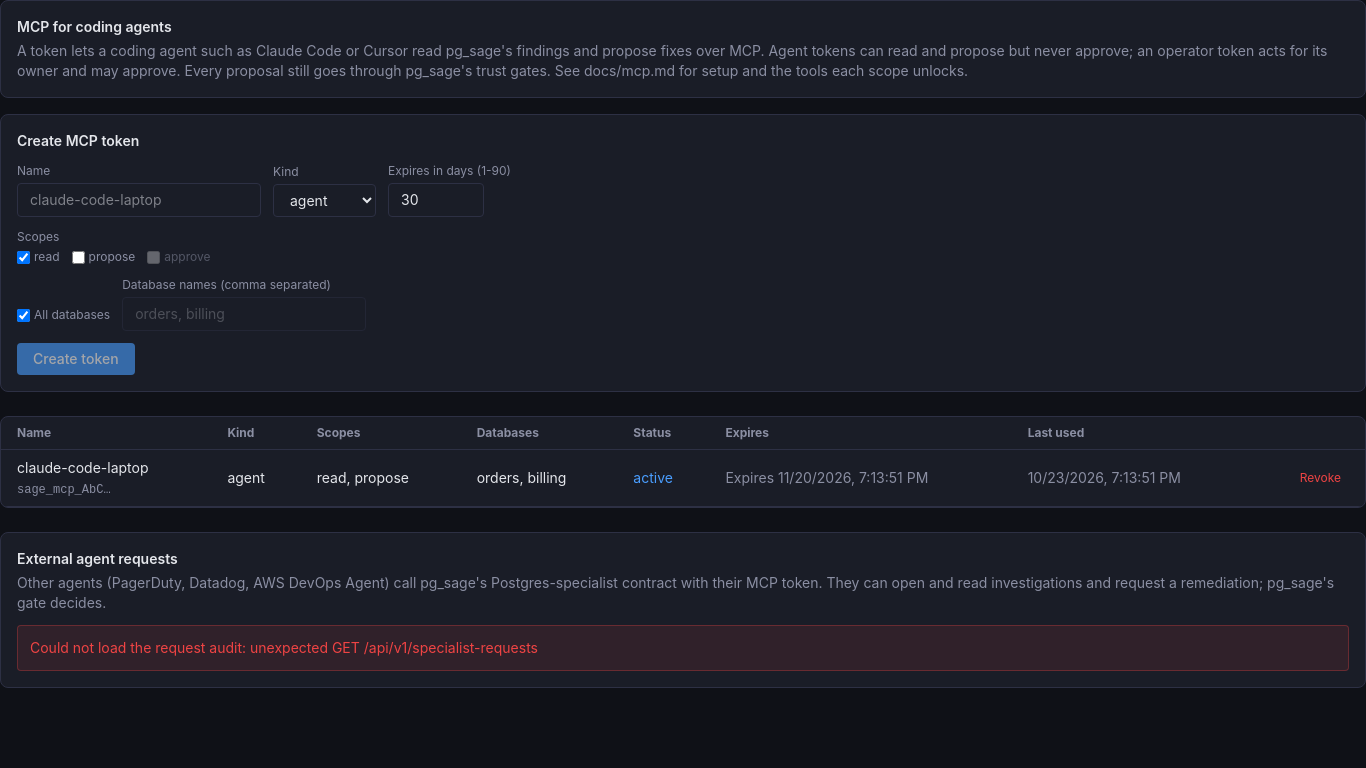
Test case: MCPTokensPage revoke › shows the server error when revoke fails and keeps the token active
Click the button "Revoke" at (1320, 478), box [1292,466,1349,490]
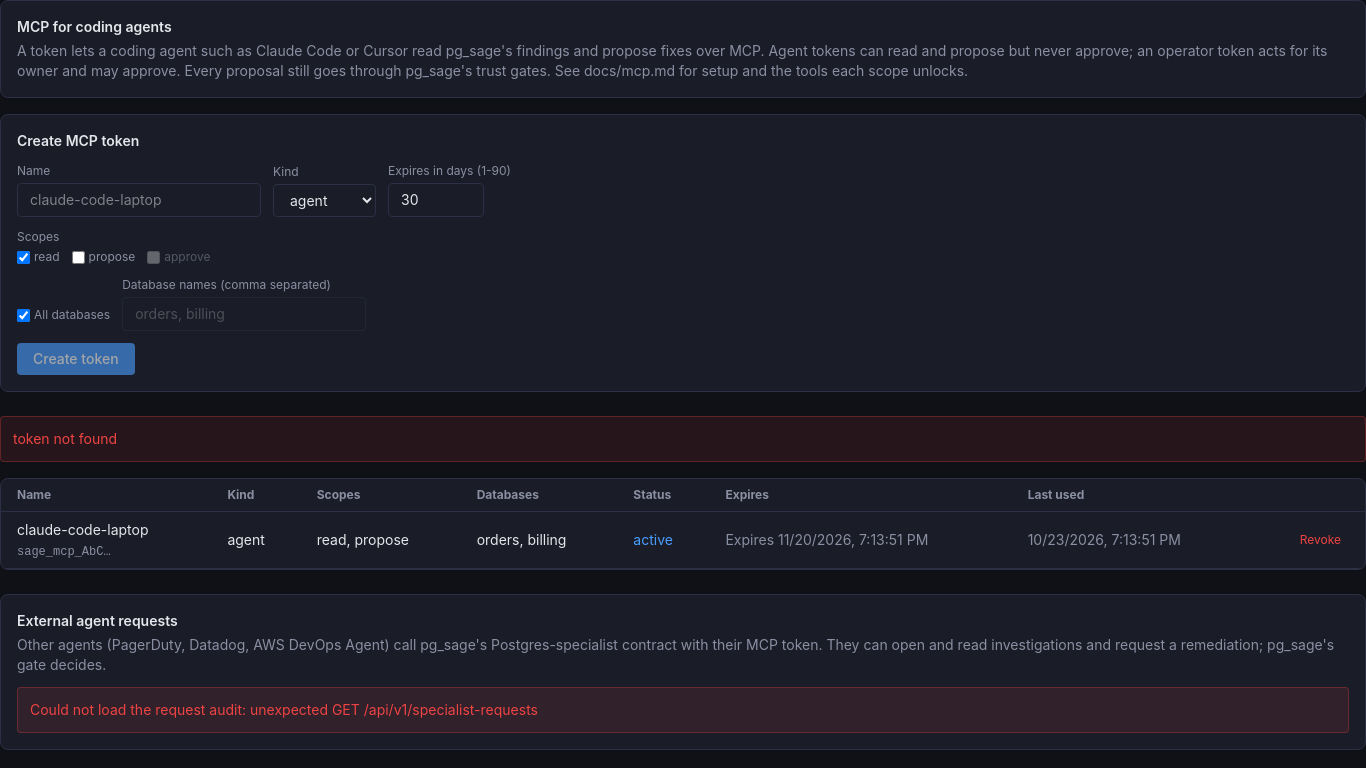
Now the text "token not found" is shown, box [0,416,1365,462]
